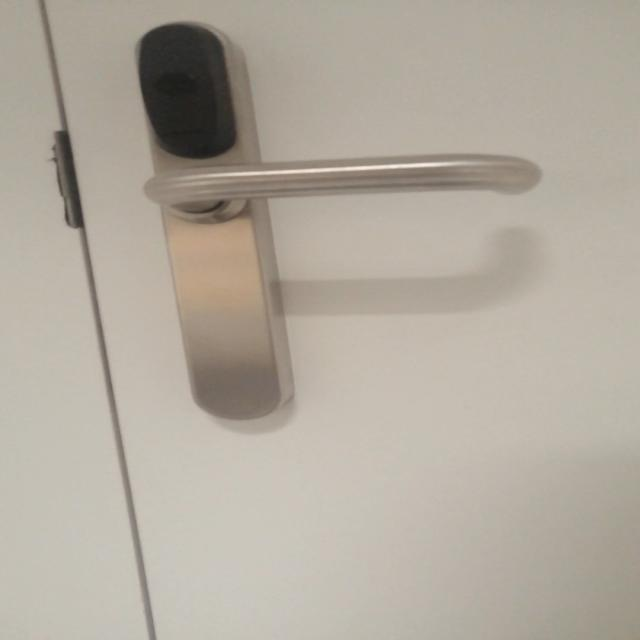door_handle: (124, 137, 557, 227)
